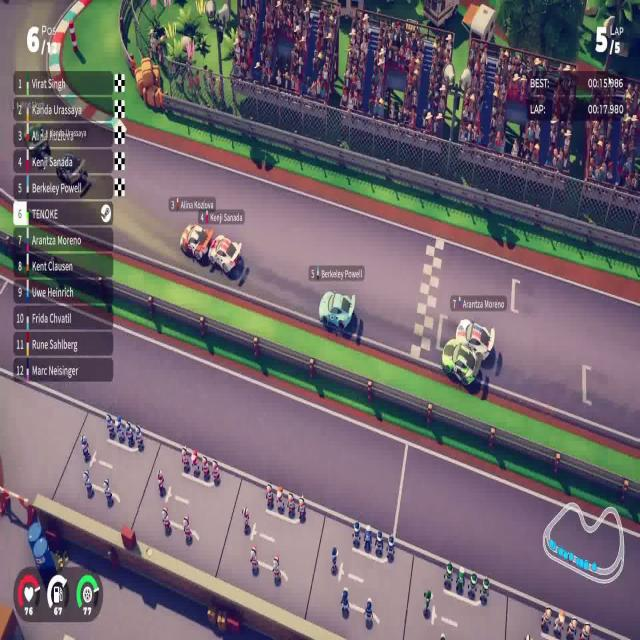car: (453, 316, 497, 362), (442, 338, 481, 387), (318, 288, 356, 332), (207, 233, 242, 275), (179, 221, 213, 263)
